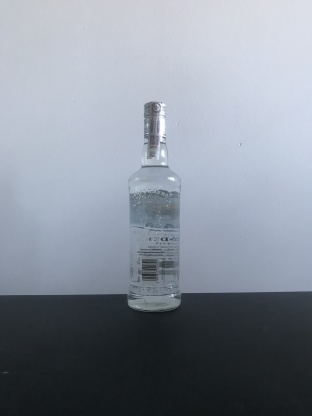nakretka: (141, 97, 168, 140)
